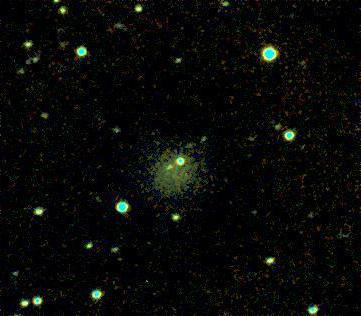star: (105, 241, 135, 271)
